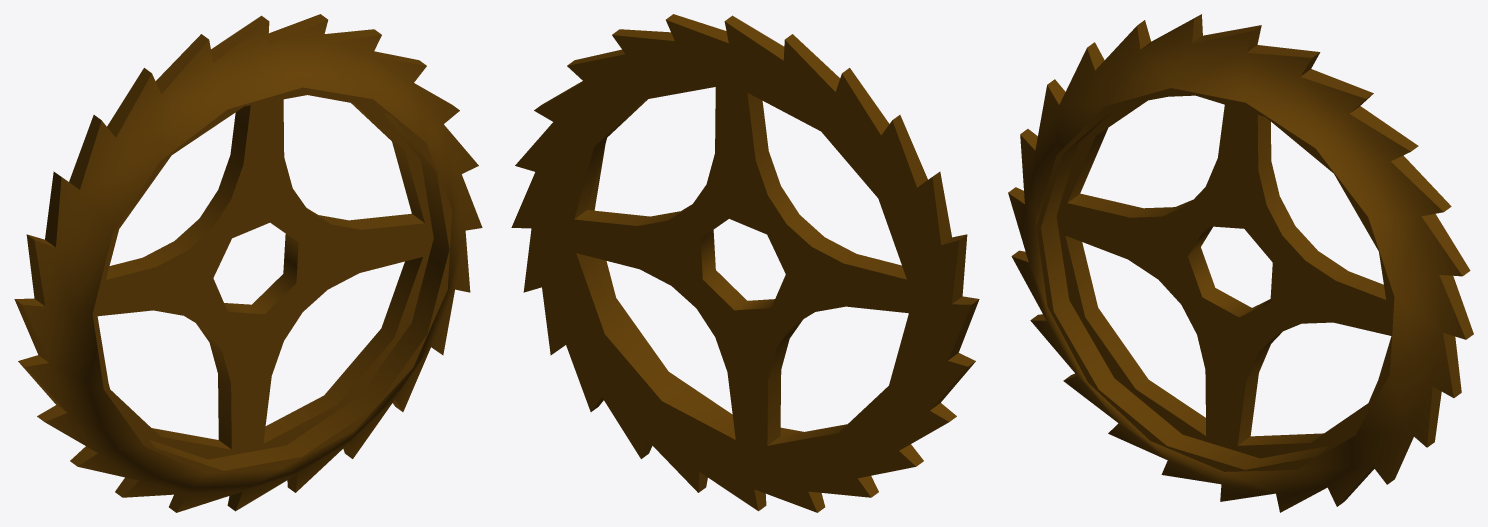
The model's file is Disque dente barillet arriere_Quarts.obj.
3 renders of one model, left to right at view 1: azimuth 30°, elevation 25°; view 2: azimuth 150°, elevation 25°; view 3: azimuth 330°, elevation 25°, orthographic.
Parts seen in each view (by area): view 1: Face_66, Face_5, Face_65, Face_18, Face_1, Face_7, Face_8, Face_15, Face_10, Face_13, Face_4, Face_24 (+7 smaller); view 2: Face_6, Face_1, Face_65, Face_7, Face_8, Face_15, Face_10, Face_13, Face_4, Face_24, Face_26, Face_22 (+5 smaller); view 3: Face_66, Face_5, Face_65, Face_18, Face_2, Face_13, Face_14, Face_15, Face_8, Face_11, Face_60, Face_58 (+7 smaller).
Part boxes in pixels (bbox=[...]): Face_66: bbox=[24, 20, 482, 512]; Face_5: bbox=[97, 92, 433, 459]; Face_65: bbox=[148, 113, 449, 470]; Face_18: bbox=[92, 87, 452, 473]; Face_1: bbox=[263, 257, 422, 443]; Face_7: bbox=[199, 105, 250, 227]; Face_8: bbox=[106, 218, 211, 279]; Face_15: bbox=[224, 234, 298, 314]; Face_10: bbox=[196, 323, 231, 449]; Face_13: bbox=[307, 208, 424, 229]; Face_4: bbox=[351, 103, 424, 222]; Face_24: bbox=[107, 68, 151, 137]; Face_6: bbox=[511, 20, 971, 512]; Face_1: bbox=[576, 253, 735, 439]; Face_65: bbox=[587, 145, 803, 436]; Face_7: bbox=[747, 93, 799, 223]; Face_8: bbox=[787, 214, 906, 279]; Face_15: bbox=[700, 230, 774, 310]; Face_10: bbox=[767, 319, 802, 445]; Face_13: bbox=[574, 204, 692, 225]; Face_4: bbox=[574, 99, 647, 218]; Face_24: bbox=[842, 68, 889, 135]; Face_26: bbox=[892, 115, 927, 187]; Face_22: bbox=[785, 34, 839, 91]; Face_66: bbox=[1009, 20, 1465, 512]; Face_5: bbox=[1056, 93, 1391, 458]; Face_65: bbox=[1041, 106, 1328, 469]; Face_18: bbox=[1036, 88, 1394, 471]; Face_2: bbox=[1065, 235, 1206, 435]; Face_13: bbox=[1282, 226, 1385, 299]; Face_14: bbox=[1257, 115, 1294, 235]; Face_15: bbox=[1188, 226, 1270, 317]; Face_8: bbox=[1068, 193, 1192, 217]; Face_11: bbox=[1237, 331, 1282, 445]; Face_60: bbox=[1391, 155, 1451, 211]; Face_58: bbox=[1421, 214, 1470, 275].
Bounding box in the file's own units: 0.0509 × 0.0509 × 0.0055.
